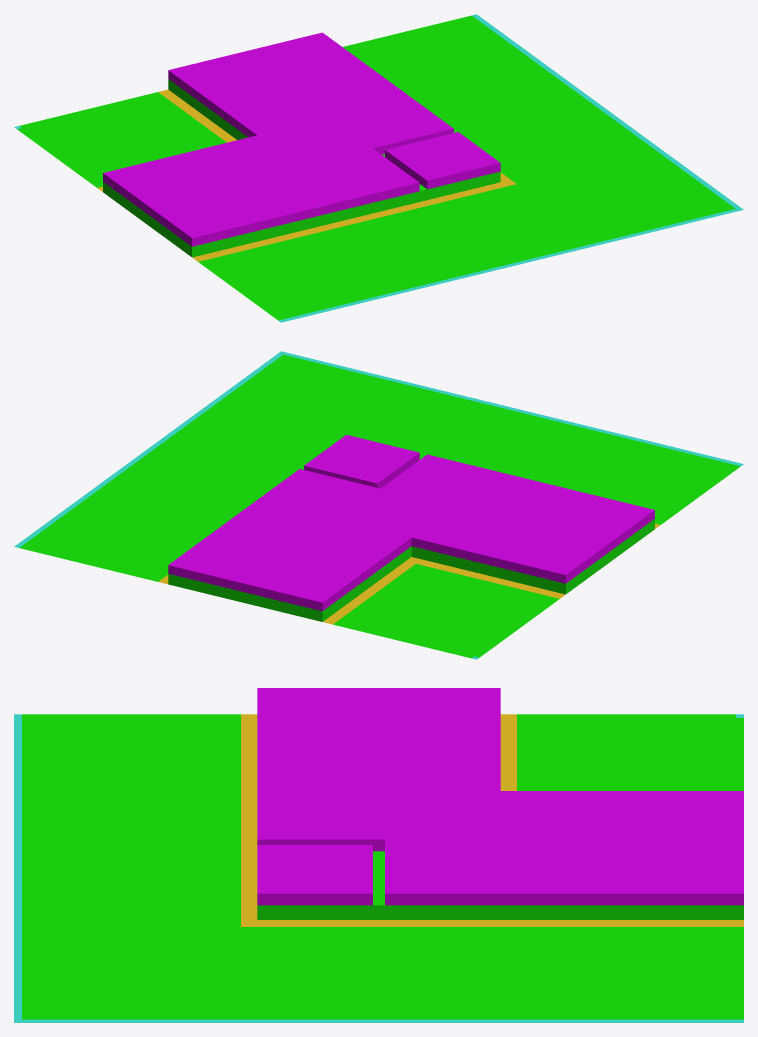
Rendered from Interior_Deco_11_Corner.fbx.
3 views of the same model, one above another, from view 1: azimuth 30°, elevation 25°; view 2: azimuth 150°, elevation 25°; view 3: azimuth 270°, elevation 25° (orthographic). The views are drawn at different scales.
Visible parts, largest first — view 1: Interior_Deco_11_Corner; view 2: Interior_Deco_11_Corner; view 3: Interior_Deco_11_Corner.
Part boxes in pixels (x1,y1,x2,y2): Interior_Deco_11_Corner: [14, 14, 743, 322]; Interior_Deco_11_Corner: [14, 351, 743, 659]; Interior_Deco_11_Corner: [14, 688, 743, 1022].
Bounding box in the file's own units: 229 × 9.14 × 229.
